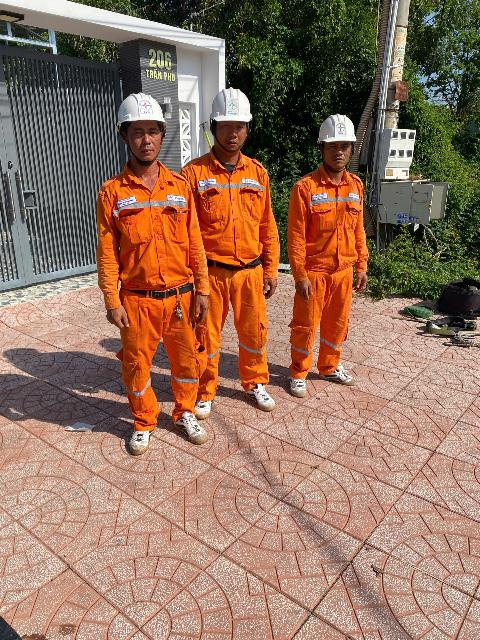helmet: (199, 83, 272, 121), (105, 92, 177, 130), (311, 107, 366, 149)
shoes: (245, 376, 281, 418), (123, 414, 158, 457), (319, 358, 364, 391), (172, 406, 204, 452), (190, 387, 226, 419), (288, 370, 309, 399)
